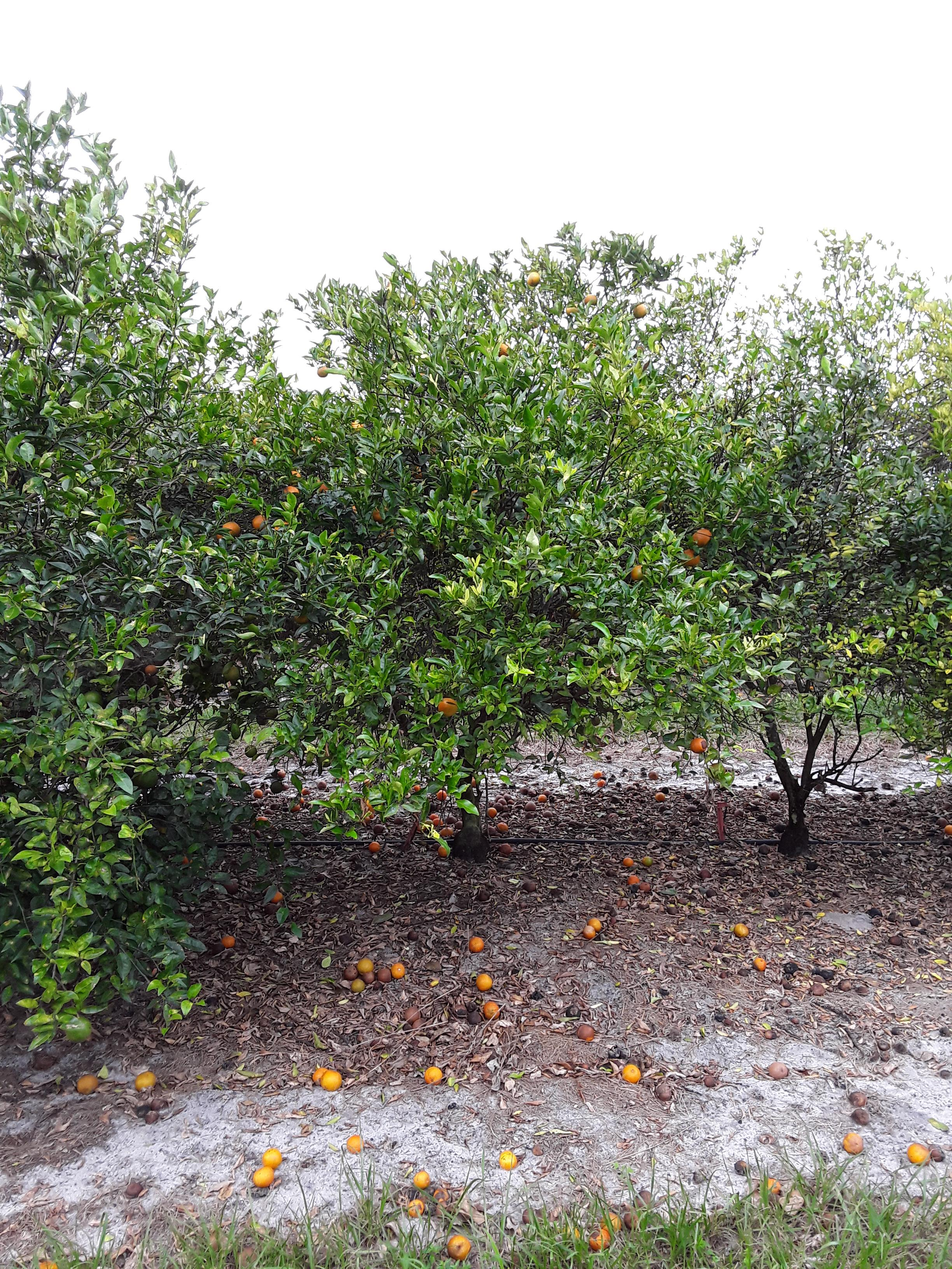fruit_on_ground: (63, 1012, 95, 1043), (677, 546, 703, 569), (436, 694, 460, 718), (80, 688, 105, 710), (690, 526, 715, 547), (649, 489, 670, 512), (219, 519, 242, 540), (626, 561, 647, 583), (221, 661, 242, 682), (687, 734, 709, 754), (346, 417, 368, 436), (141, 660, 163, 679), (247, 513, 268, 532), (270, 515, 292, 533), (239, 607, 259, 626), (368, 505, 388, 524), (524, 268, 544, 287), (408, 463, 427, 482), (293, 607, 312, 626), (630, 300, 649, 319), (377, 523, 398, 540), (211, 527, 232, 544), (282, 484, 301, 502), (266, 886, 285, 904), (494, 339, 512, 358), (581, 290, 599, 306), (242, 742, 259, 758), (564, 301, 581, 317), (314, 362, 331, 378), (316, 479, 332, 495), (286, 466, 303, 481), (265, 704, 280, 720), (268, 780, 284, 795), (255, 710, 270, 726), (348, 501, 362, 516), (924, 754, 934, 763)
fruit_on_tree: (446, 1232, 473, 1260), (234, 1243, 262, 1268), (250, 1164, 275, 1189), (75, 1072, 101, 1096), (133, 1068, 158, 1092), (906, 1141, 930, 1166), (842, 1129, 865, 1155), (260, 1147, 284, 1171), (319, 1068, 343, 1092), (588, 1228, 611, 1252), (497, 1148, 519, 1173), (574, 1023, 597, 1043), (767, 1061, 790, 1081), (480, 1000, 501, 1021), (423, 1064, 444, 1085), (621, 1063, 642, 1084), (405, 1197, 425, 1219), (604, 1210, 623, 1233), (621, 1211, 641, 1232), (763, 1176, 784, 1196), (124, 1178, 146, 1197), (345, 1133, 364, 1155), (653, 1081, 673, 1101), (474, 971, 494, 991), (850, 1108, 871, 1127), (413, 1168, 432, 1189), (402, 1003, 421, 1023), (356, 956, 375, 975), (467, 935, 486, 954), (849, 1089, 870, 1106), (34, 1256, 61, 1269), (340, 963, 359, 981), (430, 1185, 450, 1202), (174, 851, 195, 867), (635, 1189, 653, 1207), (732, 921, 750, 939), (141, 1108, 160, 1125), (222, 877, 241, 894), (390, 960, 407, 979), (358, 968, 377, 985), (348, 977, 366, 994), (310, 1066, 326, 1085), (219, 932, 236, 949), (375, 965, 392, 982), (751, 955, 767, 972), (581, 923, 598, 939), (781, 960, 799, 975), (584, 916, 600, 932), (521, 877, 538, 892), (817, 968, 835, 982), (253, 814, 271, 828), (930, 1147, 945, 1163), (497, 841, 513, 856), (866, 905, 884, 918), (811, 983, 827, 997), (887, 933, 903, 947), (698, 865, 713, 879), (646, 767, 661, 781), (495, 820, 510, 834), (367, 839, 382, 853), (734, 1158, 748, 1172), (436, 844, 450, 858), (805, 858, 820, 871), (272, 767, 287, 780), (767, 788, 782, 801), (621, 856, 636, 869), (625, 873, 641, 885), (288, 801, 302, 814), (434, 788, 448, 801), (441, 825, 455, 838), (653, 789, 667, 802), (406, 929, 420, 942), (372, 823, 387, 835), (940, 822, 952, 837), (522, 800, 537, 812), (756, 843, 771, 855), (590, 769, 606, 780), (411, 781, 424, 794), (641, 855, 654, 868), (251, 787, 265, 799), (594, 776, 608, 788), (637, 881, 651, 893), (839, 979, 852, 991), (316, 778, 329, 790), (485, 805, 498, 817), (536, 792, 549, 804), (392, 814, 405, 825), (520, 784, 532, 795), (469, 774, 480, 786), (492, 801, 503, 813), (300, 784, 311, 795), (427, 812, 439, 822), (494, 793, 505, 803), (432, 817, 443, 826), (496, 799, 508, 806)
